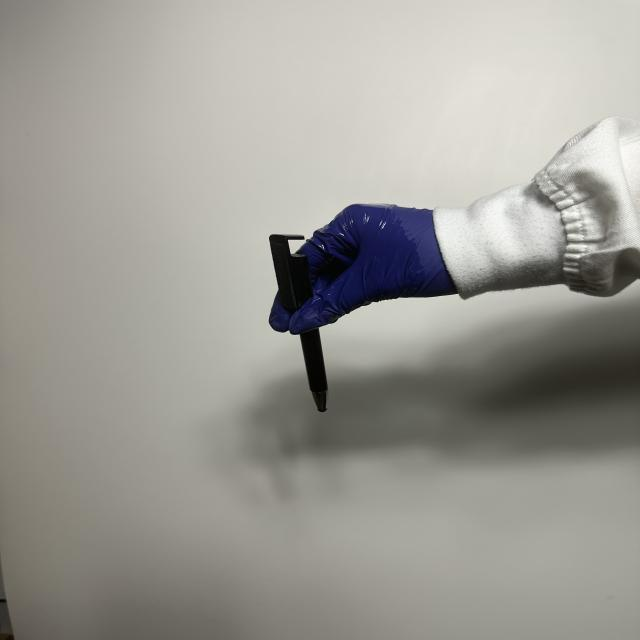gloves_contaminated: (269, 204, 457, 334)
